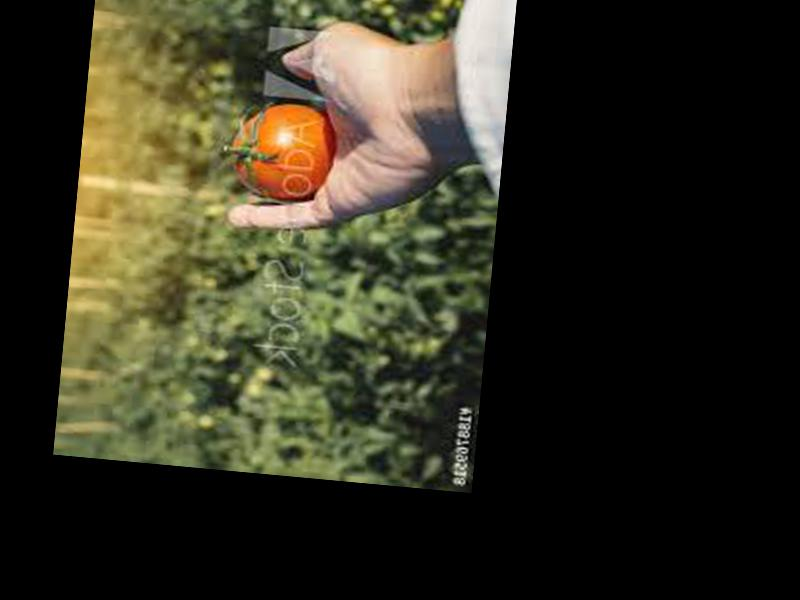Tomato: (229, 101, 334, 205)
